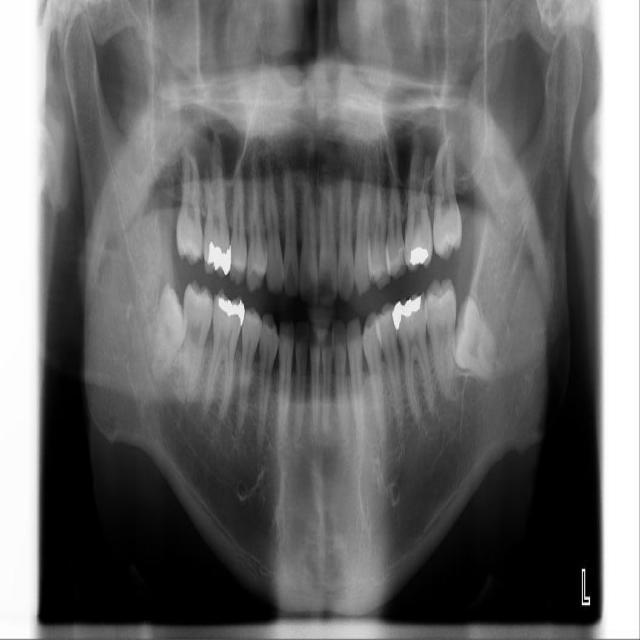52: (206, 287, 249, 343), (390, 292, 430, 349), (200, 214, 233, 279), (403, 207, 434, 273)
73: (564, 582, 568, 588)
BioHorizons Implant: (432, 143, 462, 261)
Biomet 3i Implant: (438, 291, 507, 393)
Blue Sky Bio Implant: (424, 278, 456, 400)
Caries: (173, 153, 205, 266)
Implant: (180, 280, 215, 402)
Keystone Dental Implant: (125, 281, 205, 383)
